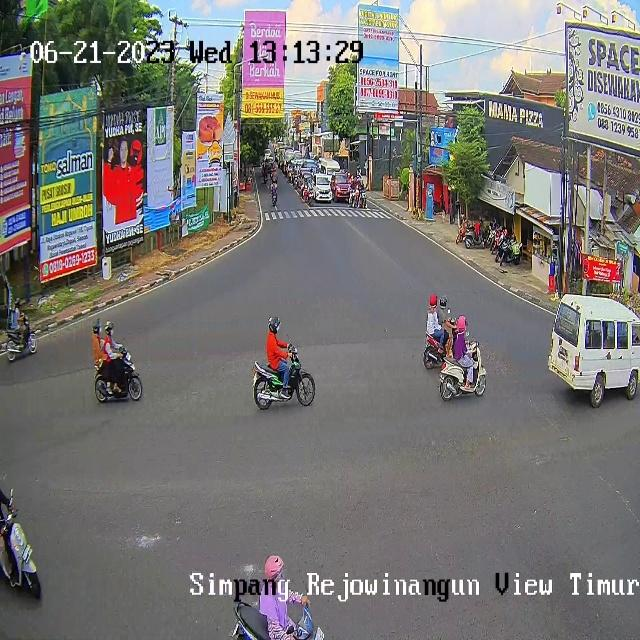bus: (252, 343, 315, 410), (0, 506, 42, 601), (233, 600, 325, 640), (439, 341, 487, 401), (93, 346, 142, 403), (423, 317, 458, 368), (5, 313, 38, 362), (350, 189, 358, 207), (360, 188, 367, 208), (308, 187, 314, 205), (272, 191, 278, 207), (303, 184, 308, 202)
motorcycle: (547, 294, 640, 408), (311, 174, 333, 202), (331, 173, 350, 202)
